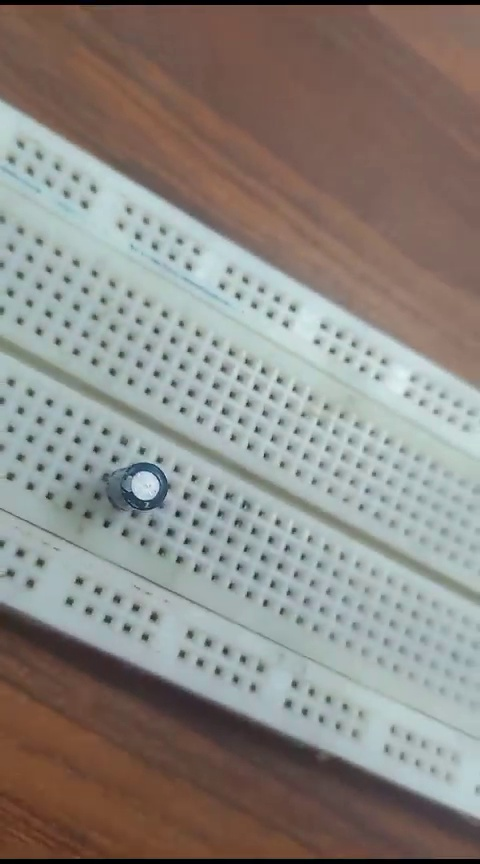capacitor: (100, 459, 169, 525)
